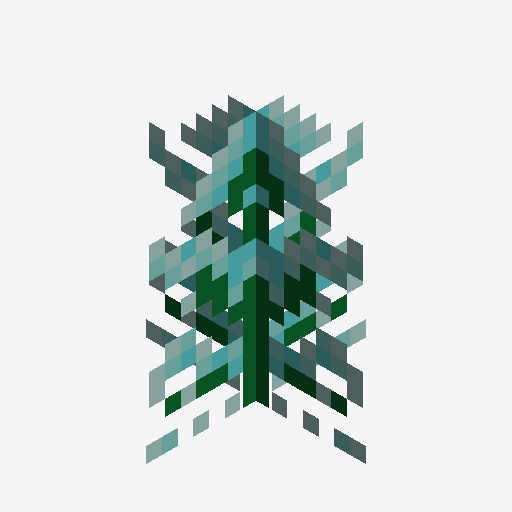
Isometric view (azimuth 45°, elevation 35.3°) of a Minecraft model made of 86 cuboids, textured from the same repository.
Parts seen in each view (by area): TopStalk (×2), element 4, element 47, element 18, element 65, element 19, element 66, element 38, element 79, element 40, element 75, element 17 (+27 smaller).
Boxes of the visible parts, x1,y1,x2,y2 form: TopStalk (×2): [243, 104, 268, 407]; element 4: [269, 119, 283, 217]; element 47: [228, 119, 242, 217]; element 18: [284, 236, 299, 316]; element 65: [212, 236, 227, 316]; element 19: [300, 227, 315, 307]; element 66: [196, 227, 211, 307]; element 38: [269, 336, 299, 389]; element 79: [212, 336, 242, 389]; element 40: [316, 327, 346, 380]; element 75: [165, 327, 195, 380]; element 17: [269, 246, 283, 325].
Size of the model in its own units: 14 by 16 by 14.